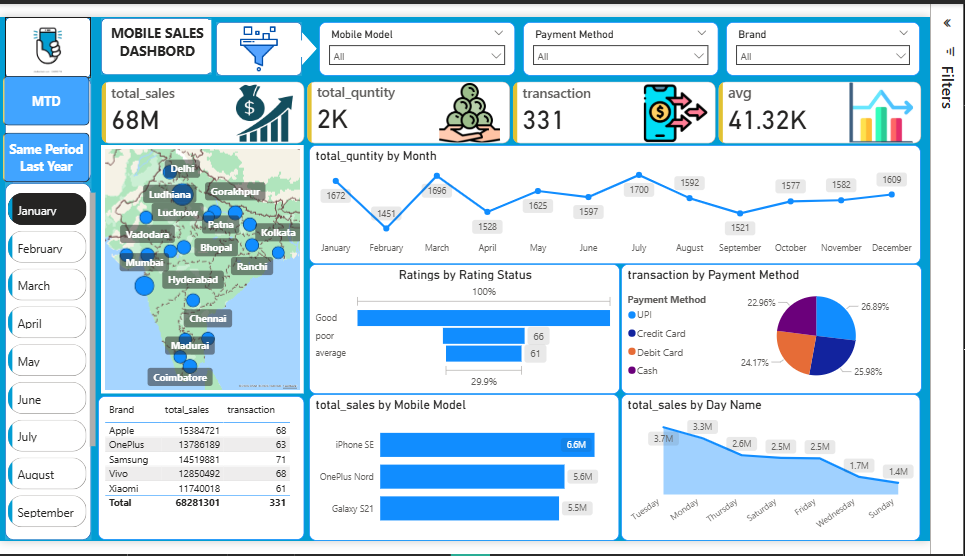

The dashboard page shown, as its layout file describes it:
{"tool":"powerbi","page":{"name":"Dashboard","canvas":[1280,720],"ordinal":0},"visuals":[{"type":"shape","box":[7.1,0,118.6,84.3],"z":0},{"type":"image","box":[25.1,1.5,82.7,81.2],"z":1000},{"type":"shape","box":[7.1,81.4,118.6,147.1],"z":2000},{"type":"shape","box":[7.1,228.6,118.6,491.4],"z":3000},{"type":"advancedSlicerVisual","fields":{"Values":["custom_calender.date.Variation.Date Hierarchy.Month"]},"box":[5.9,236.3,131.4,474.1],"z":4000},{"type":"cardVisual","fields":{"Data":["sales_data.total_sales","sales_data.total_quntity","sales_data.transaction","sales_data.avg"]},"box":[135.2,83.8,1141.7,95.5],"z":5000},{"type":"slicer","fields":{"Values":["sales_data.Mobile Model"]},"box":[438.6,7.4,270.3,73.8],"z":6000},{"type":"slicer","fields":{"Values":["sales_data.Payment Method"]},"box":[719.3,7.4,268.8,73.8],"z":7000},{"type":"slicer","fields":{"Values":["sales_data.Brand"]},"box":[999.9,7.4,267.3,73.8],"z":8000},{"type":"shape","box":[296.9,7.4,118.2,73.8],"z":9000},{"type":"image","box":[296.9,7.4,118.2,73.8],"z":10000},{"type":"shape","box":[394.3,20.7,41.4,45.8],"z":11000},{"type":"shape","box":[138.8,1.5,152.1,78.3],"z":12000},{"type":"textbox","box":[141.8,4.4,149.2,72.4],"z":13000},{"type":"lineChart","fields":{"Y":["sales_data.total_quntity"],"Category":["custom_calender.date.Variation.Date Hierarchy.Month"]},"box":[425.4,175.8,841.8,163.9],"z":14000},{"type":"funnel","title":"Ratings by Rating Status","fields":{"Y":["CountNonNull(sales_data.Customer Ratings)"],"Category":["sales_data.Rating Status"]},"box":[425.4,339.7,428.3,178.7],"z":15000},{"type":"pieChart","fields":{"Y":["sales_data.transaction"],"Category":["sales_data.Payment Method"]},"box":[855.1,339.7,413.5,178.7],"z":16000},{"type":"barChart","fields":{"Y":["sales_data.total_sales"],"Category":["sales_data.Mobile Model"]},"box":[425.4,518.4,426.8,202.3],"z":17000},{"type":"areaChart","fields":{"Y":["sales_data.total_sales"],"Category":["custom_calender.Day Name"]},"box":[855.1,518.4,412.1,202.3],"z":18000},{"type":"tableEx","fields":{"Values":["sales_data.Brand","sales_data.total_sales","sales_data.transaction"]},"box":[135.2,521.6,283.6,198.4],"z":19000},{"type":"pageNavigator","box":[4,81,119.6,146],"z":20000},{"type":"azureMap","fields":{"Category":["sales_data.City"],"Size":["sales_data.total_sales"]},"box":[139.6,176.3,279.2,342.4],"z":21000}]}

Visuals, with their boxes on the page's 1280x720 design canvas (x1, y1, x2, y2). These are canvas units, not pixel positions in the 965x556 screenshot, which may show the page scaled, cropped or inside an application window:
shape: select_region(7, 0, 126, 84)
image: select_region(25, 2, 108, 83)
shape: select_region(7, 81, 126, 228)
shape: select_region(7, 229, 126, 720)
advancedSlicerVisual - custom_calender.date.Variation.Date Hierarchy.Month: select_region(6, 236, 137, 710)
cardVisual - sales_data.total_sales x sales_data.total_quntity: select_region(135, 84, 1277, 179)
slicer - sales_data.Mobile Model: select_region(439, 7, 709, 81)
slicer - sales_data.Payment Method: select_region(719, 7, 988, 81)
slicer - sales_data.Brand: select_region(1000, 7, 1267, 81)
shape: select_region(297, 7, 415, 81)
image: select_region(297, 7, 415, 81)
shape: select_region(394, 21, 436, 66)
shape: select_region(139, 2, 291, 80)
textbox: select_region(142, 4, 291, 77)
lineChart - sales_data.total_quntity x custom_calender.date.Variation.Date Hierarchy.Month: select_region(425, 176, 1267, 340)
"Ratings by Rating Status" funnel: select_region(425, 340, 854, 518)
pieChart - sales_data.transaction x sales_data.Payment Method: select_region(855, 340, 1269, 518)
barChart - sales_data.total_sales x sales_data.Mobile Model: select_region(425, 518, 852, 721)
areaChart - sales_data.total_sales x custom_calender.Day Name: select_region(855, 518, 1267, 721)
tableEx - sales_data.Brand x sales_data.total_sales: select_region(135, 522, 419, 720)
pageNavigator: select_region(4, 81, 124, 227)
azureMap - sales_data.City x sales_data.total_sales: select_region(140, 176, 419, 519)
